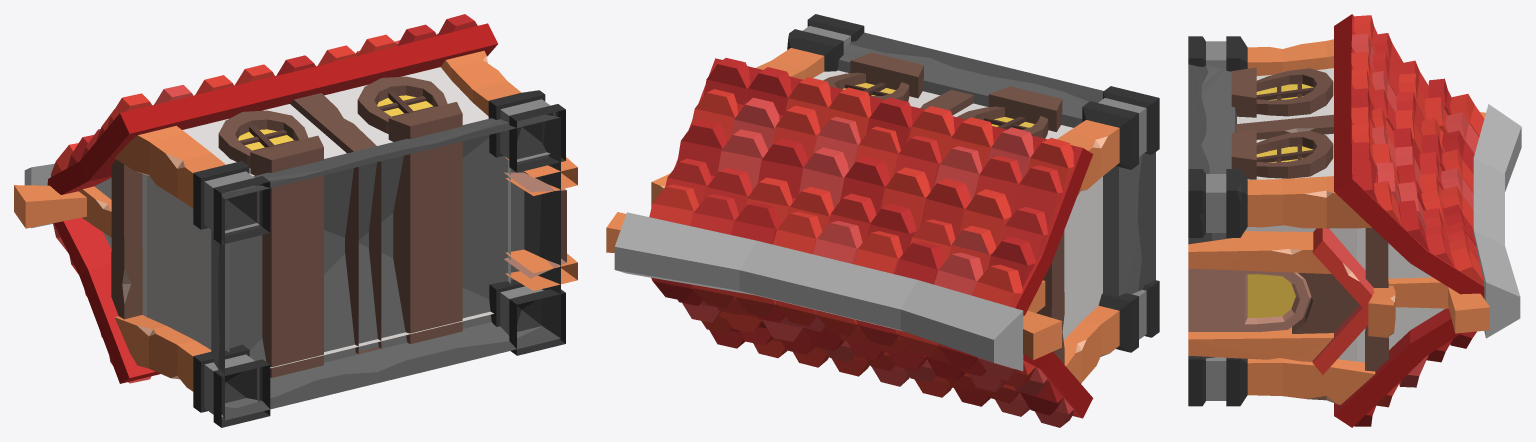
The model's file is house_draco.glb.
The picture shows the model from 3 angles, left to right: view 1: azimuth 30°, elevation 25°; view 2: azimuth 150°, elevation 25°; view 3: azimuth 270°, elevation 25°; orthographic projection. The views are drawn at different scales.
Parts seen in each view (by area): view 1: house_003.001; view 2: house_003.001; view 3: house_003.001.
Boxes of the visible parts, x1,y1,x2,y2 form: house_003.001: (14,14,577,427); house_003.001: (606,14,1159,427); house_003.001: (1188,14,1521,427).
Size of the model in its own units: 5.4 by 3.26 by 3.8.
1 material, 1 textured.
